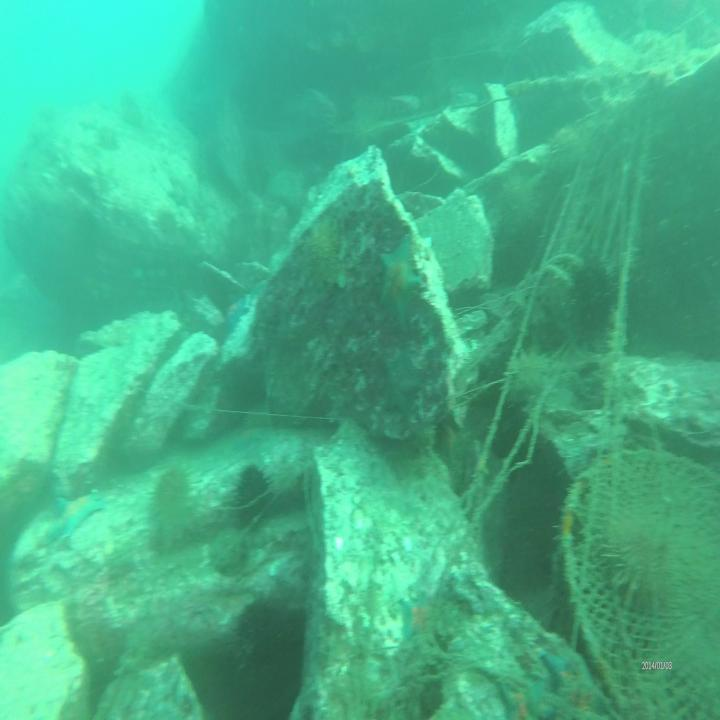echinus: (152, 463, 194, 524), (239, 464, 272, 521)
starfish: (381, 237, 420, 325), (54, 484, 104, 547), (224, 290, 250, 336)
